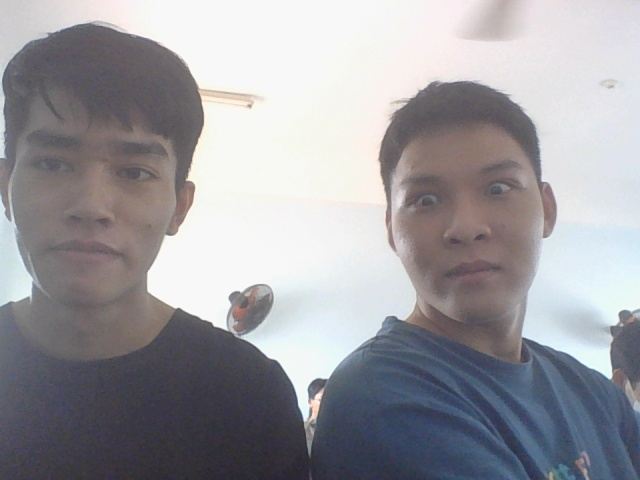real: (0, 9, 223, 325), (374, 64, 567, 337)
